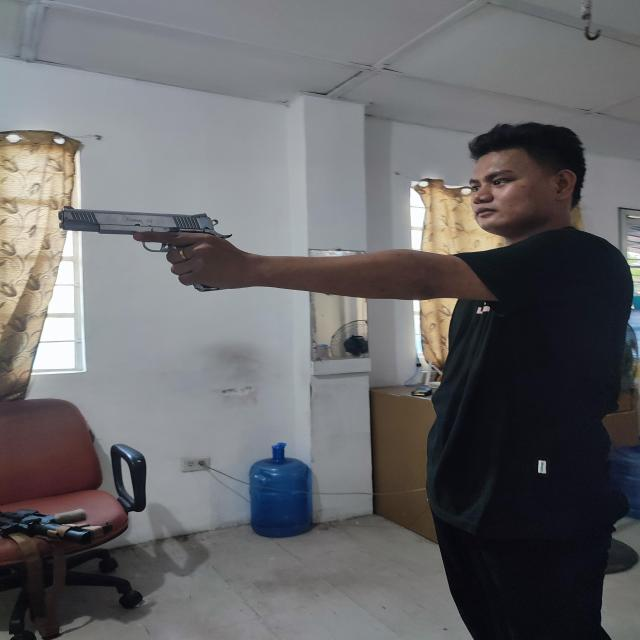pistol: (58, 206, 233, 252)
